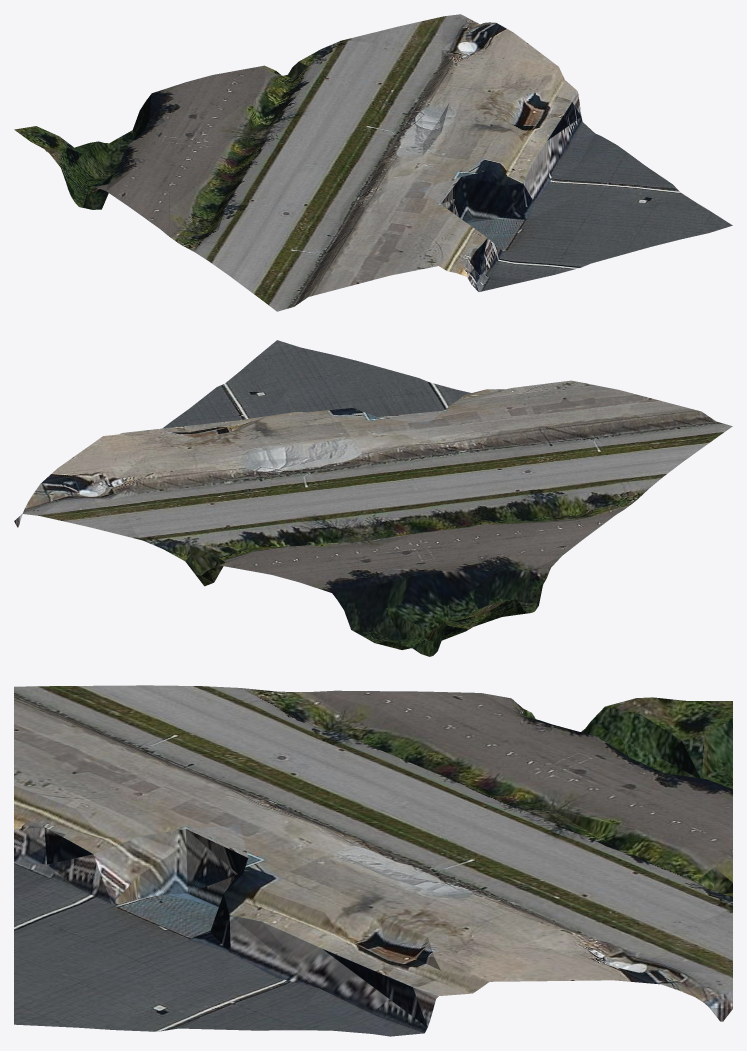
The model's file is map_15_8182_13786.dae.
3 views of the same model, one above another, from view 1: azimuth 30°, elevation 25°; view 2: azimuth 150°, elevation 25°; view 3: azimuth 270°, elevation 25° (orthographic). The views are drawn at different scales.
Parts seen in each view (by area): view 1: Ter0; view 2: Ter0; view 3: Ter0.
Part boxes in pixels (<box>): Ter0: <box>14,14,732,311</box>; Ter0: <box>14,340,732,656</box>; Ter0: <box>14,685,732,1036</box>.
Size of the model in its own units: 63.88 by 63.88 by 9.56.
3 materials, 3 textured.
